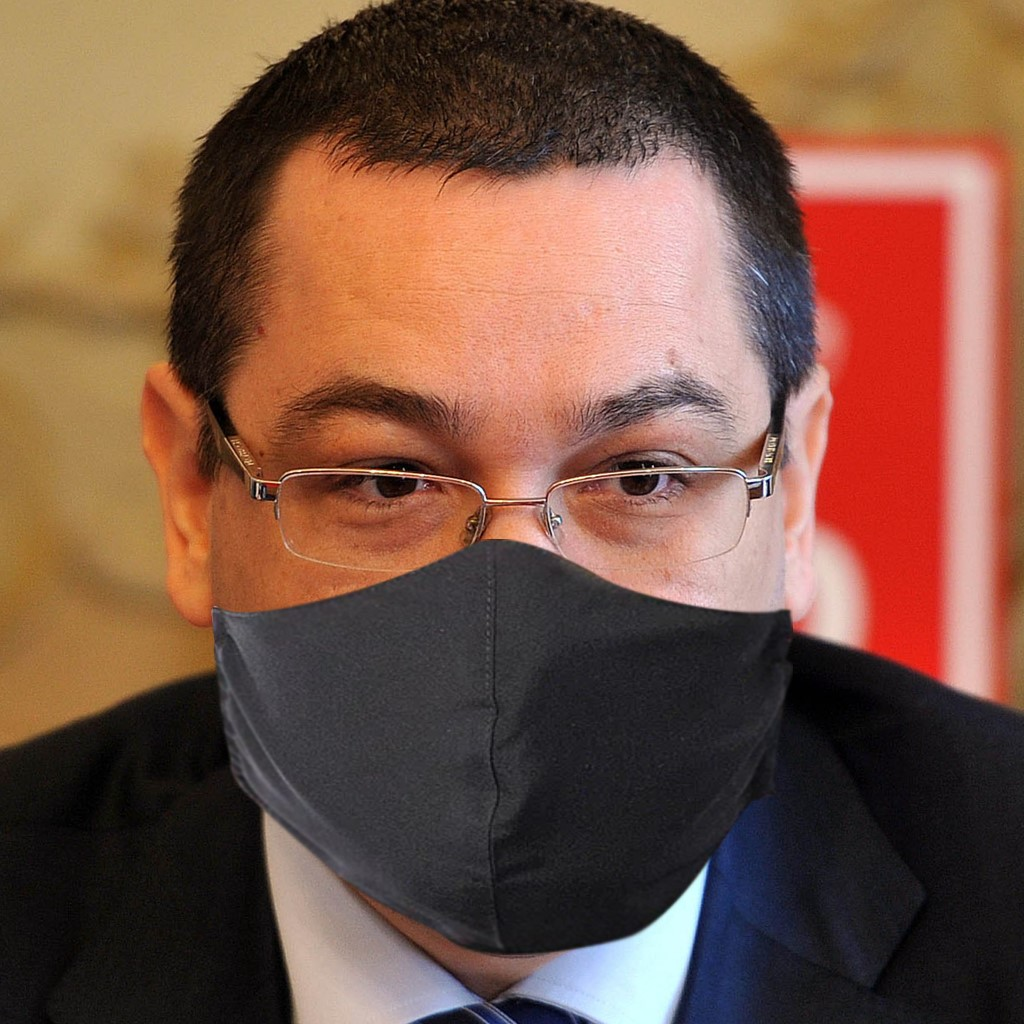con_mascara: (170, 56, 808, 972)
